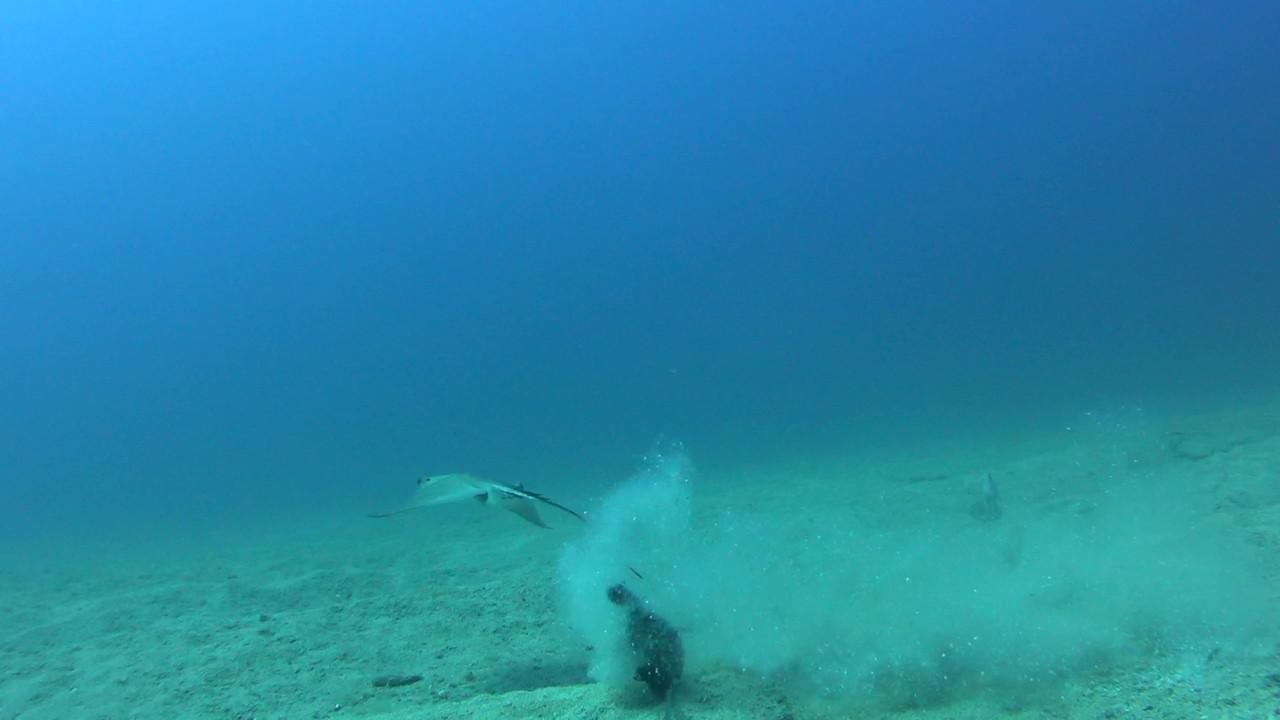myliobatis: (370, 432, 674, 583)
